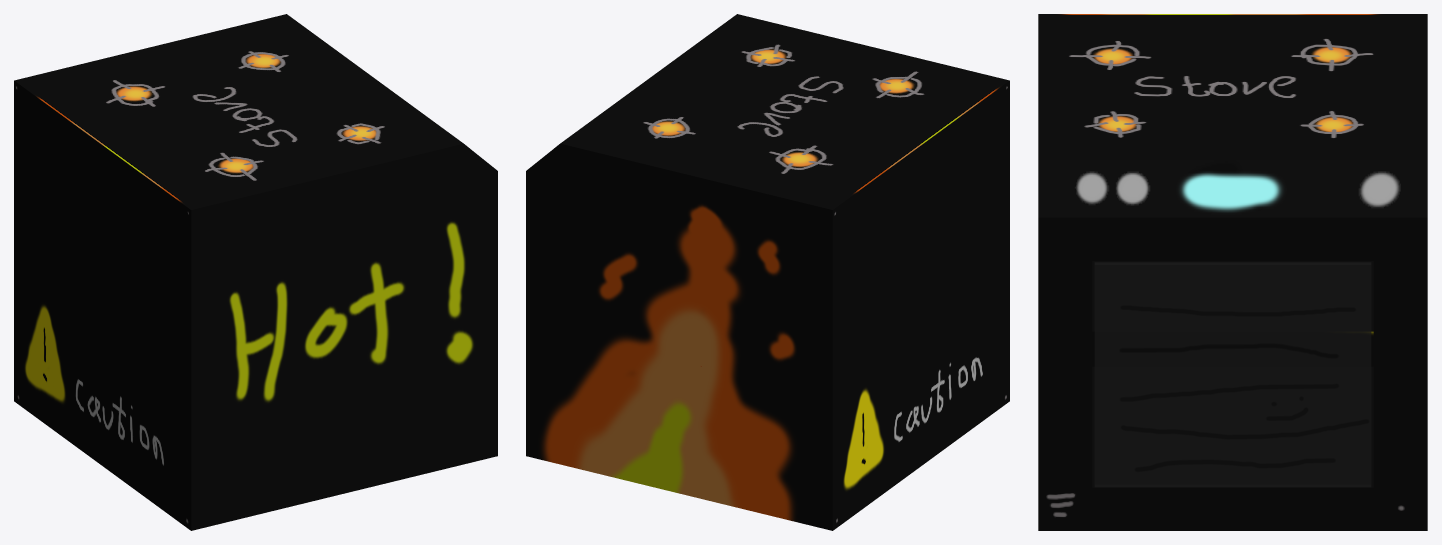
The model's file is Oven.fbx.
3 renders of one model, left to right at view 1: azimuth 30°, elevation 25°; view 2: azimuth 150°, elevation 25°; view 3: azimuth 270°, elevation 25°, orthographic. The views are drawn at different scales.
Parts seen in each view (by area): view 1: Cube; view 2: Cube; view 3: Cube, lid.
Part boxes in pixels (x1,y1,x2,y2): Cube: [14, 14, 497, 530]; Cube: [526, 14, 1009, 530]; Cube: [1038, 14, 1427, 530]; lid: [1094, 262, 1371, 487].
Size of the model in its own units: 201 by 200 by 200.
2 materials, 2 textured.
